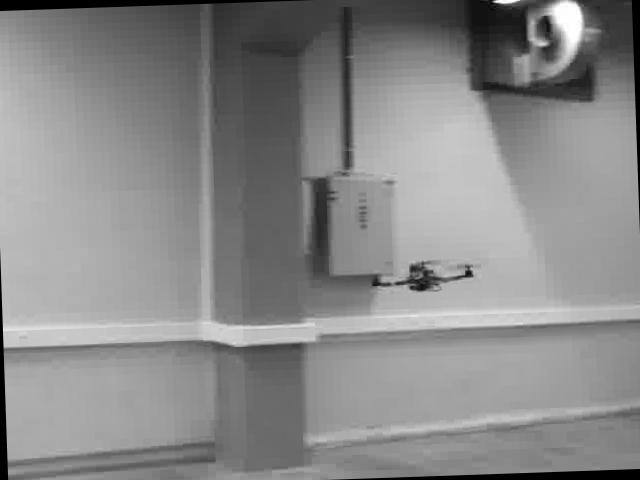drone: (365, 256, 479, 296)
